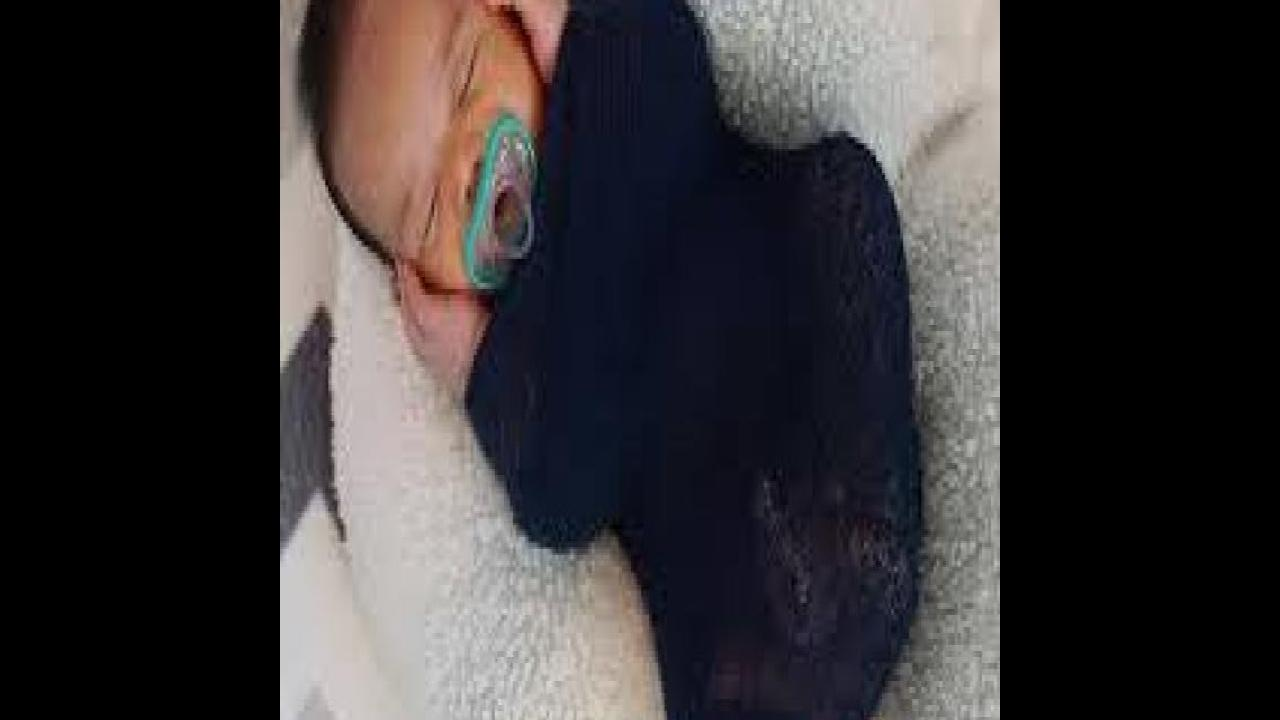hand: (394, 248, 490, 395), (484, 0, 568, 86)
